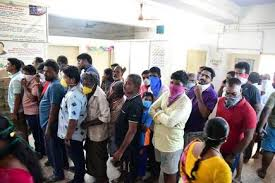No Social Distance: (5, 54, 264, 179)
